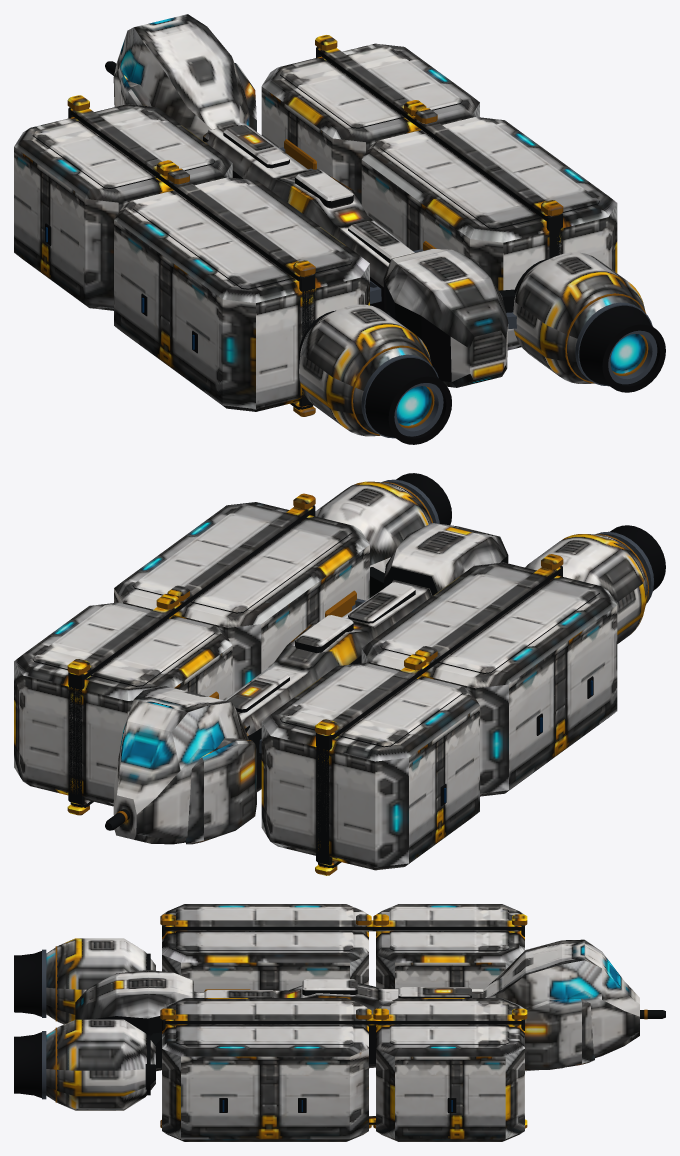
Rendered from small-freighter.obj.
3 renders of one model, top to bottom at view 1: azimuth 30°, elevation 25°; view 2: azimuth 150°, elevation 25°; view 3: azimuth 270°, elevation 25°, orthographic. The views are drawn at different scales.
Parts seen in each view (by area): view 1: cargo.port.2_|_beveled_pressure_container, cargo.starboard.2_|_beveled_pressure_container, cargo.port.1_|_beveled_pressure_container, stern_|_central_drive-service_fairing, bridge_|_faceted_forward_pressure_cabin, cargo.port.2_|_dorsal_loading_panel, cargo.starboard.2_|_dorsal_loading_panel, cargo.starboard.1_|_beveled_pressure_container, engine.port_|_stepped_armored_engine_casing, engine.starboard_|_stepped_armored_engine_casing, cargo.starboard.1_|_dorsal_loading_panel, cargo.port.1_|_dorsal_loading_panel (+15 smaller); view 2: cargo.port.1_|_beveled_pressure_container, cargo.port.2_|_beveled_pressure_container, cargo.starboard.1_|_beveled_pressure_container, bridge_|_faceted_forward_pressure_cabin, cargo.starboard.2_|_beveled_pressure_container, cargo.port.2_|_dorsal_loading_panel, cargo.starboard.2_|_dorsal_loading_panel, cargo.port.1_|_dorsal_loading_panel, cargo.starboard.1_|_dorsal_loading_panel, bridge.port_|_sensor_and_maneuvering_fairing, hull_|_continuous_structural_spine, stern_|_central_drive-service_fairing (+12 smaller); view 3: cargo.starboard.2_|_beveled_pressure_container, cargo.starboard.1_|_beveled_pressure_container, bridge_|_faceted_forward_pressure_cabin, engine.starboard_|_stepped_armored_engine_casing, cargo.port.2_|_beveled_pressure_container, cargo.starboard.2_|_dorsal_loading_panel, cargo.port.2_|_dorsal_loading_panel, cargo.port.1_|_beveled_pressure_container, engine.port_|_stepped_armored_engine_casing, stern_|_central_drive-service_fairing, bridge.starboard_|_sensor_and_maneuvering_fairing, cargo.port.1_|_dorsal_loading_panel (+9 smaller).
Boxes of the visible parts, x1,y1,x2,y2 form: cargo.port.2_|_beveled_pressure_container: (114,177,369,411); cargo.starboard.2_|_beveled_pressure_container: (361,117,617,350); cargo.port.1_|_beveled_pressure_container: (14,104,232,310); stern_|_central_drive-service_fairing: (383,248,508,387); bridge_|_faceted_forward_pressure_cabin: (113,14,249,140); cargo.port.2_|_dorsal_loading_panel: (132,179,352,289); cargo.starboard.2_|_dorsal_loading_panel: (380,119,599,229); cargo.starboard.1_|_beveled_pressure_container: (261,43,479,204); engine.port_|_stepped_armored_engine_casing: (299,304,431,436); engine.starboard_|_stepped_armored_engine_casing: (513,252,645,383); cargo.starboard.1_|_dorsal_loading_panel: (280,46,462,128); cargo.port.1_|_dorsal_loading_panel: (32,106,214,188); cargo.port.1_|_beveled_pressure_container: (261,663,479,870); cargo.port.2_|_beveled_pressure_container: (361,562,617,796); cargo.starboard.1_|_beveled_pressure_container: (14,602,232,806); bridge_|_faceted_forward_pressure_cabin: (113,686,248,844); cargo.starboard.2_|_beveled_pressure_container: (114,502,369,693); cargo.port.2_|_dorsal_loading_panel: (380,564,599,673); cargo.starboard.2_|_dorsal_loading_panel: (132,503,352,613); cargo.port.1_|_dorsal_loading_panel: (280,664,462,747); cargo.starboard.1_|_dorsal_loading_panel: (32,604,214,686); bridge.port_|_sensor_and_maneuvering_fairing: (186,738,256,844); hull_|_continuous_structural_spine: (224,580,432,791); stern_|_central_drive-service_fairing: (383,523,508,595); cargo.starboard.2_|_beveled_pressure_container: (162,998,368,1141); cargo.starboard.1_|_beveled_pressure_container: (376,998,524,1141); bridge_|_faceted_forward_pressure_cabin: (483,939,639,1071); engine.starboard_|_stepped_armored_engine_casing: (46,1019,155,1110); cargo.port.2_|_beveled_pressure_container: (162,904,368,992); cargo.starboard.2_|_dorsal_loading_panel: (176,1001,353,1044); cargo.port.2_|_dorsal_loading_panel: (176,907,353,950); cargo.port.1_|_beveled_pressure_container: (376,904,524,989); engine.port_|_stepped_armored_engine_casing: (46,938,155,1024); stern_|_central_drive-service_fairing: (75,970,193,1071); bridge.starboard_|_sensor_and_maneuvering_fairing: (525,999,594,1069); cargo.port.1_|_dorsal_loading_panel: (389,907,509,950).
Size of the model in its own units: 8.3 by 3.3 by 15.06.
Materials: 7 (2 with a texture image).
